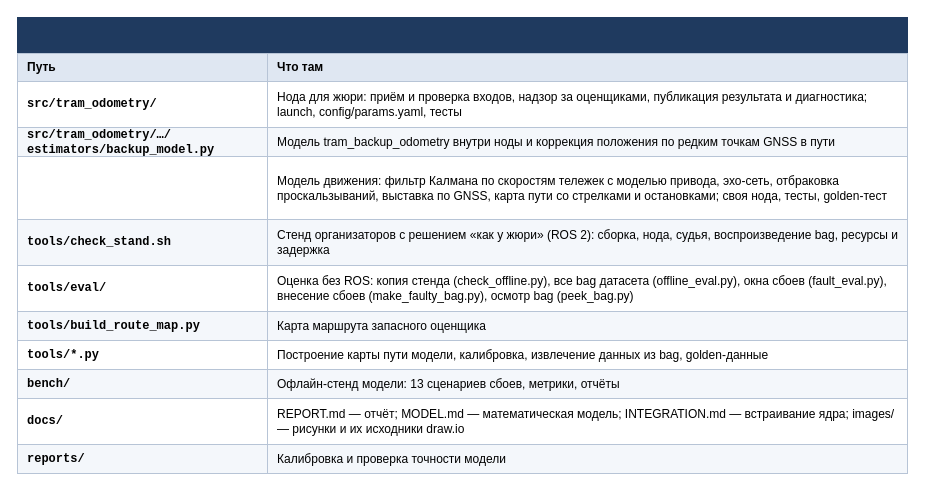
This 925x491 diagram has some shape labels left out. The shapes that lost their labels are listed below. From the top down, each one's centre as x and y in pixels, then its label:
pixel 462 35: Состав репозитория (ветка main)
pixel 142 188: src/tram_backup_odometry/
